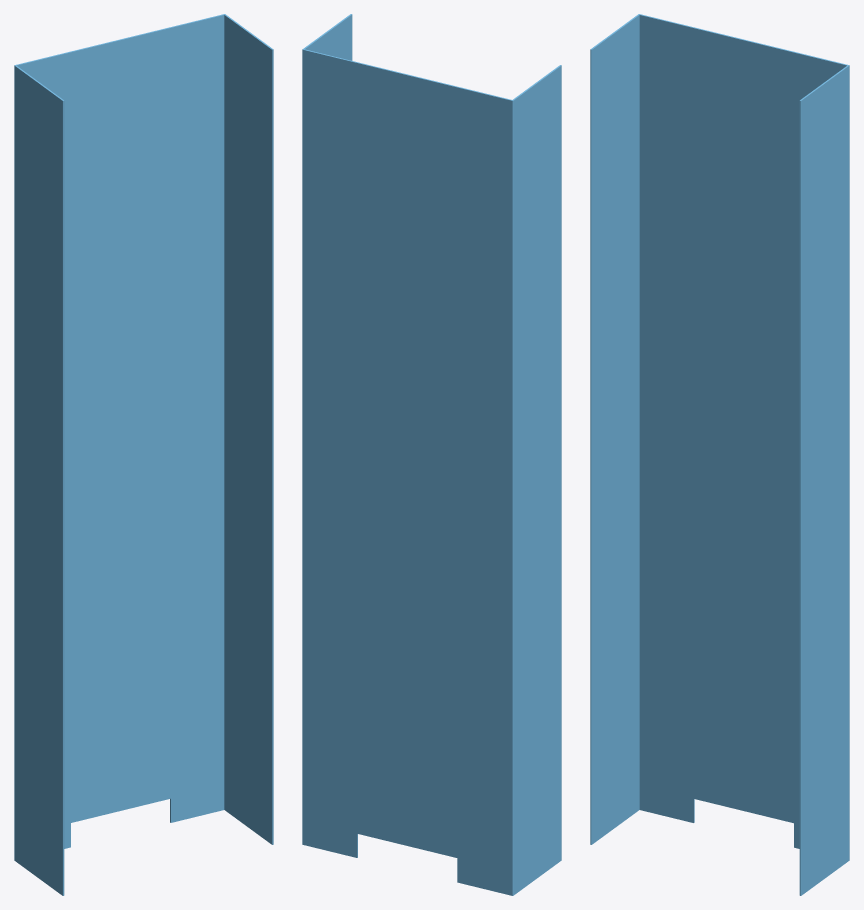
Rendered from sepcomplex.dae.
3 views of the same model, side by side, from view 1: azimuth 30°, elevation 25°; view 2: azimuth 150°, elevation 25°; view 3: azimuth 330°, elevation 25° (orthographic).
Parts seen in each view (by area): view 1: Sep Complexe; view 2: Sep Complexe; view 3: Sep Complexe.
Boxes of the visible parts, x1,y1,x2,y2 form: Sep Complexe: (14, 14, 273, 895); Sep Complexe: (302, 14, 561, 895); Sep Complexe: (590, 14, 849, 895).
Size of the model in its own units: 0.272 by 0.109 by 0.98.
